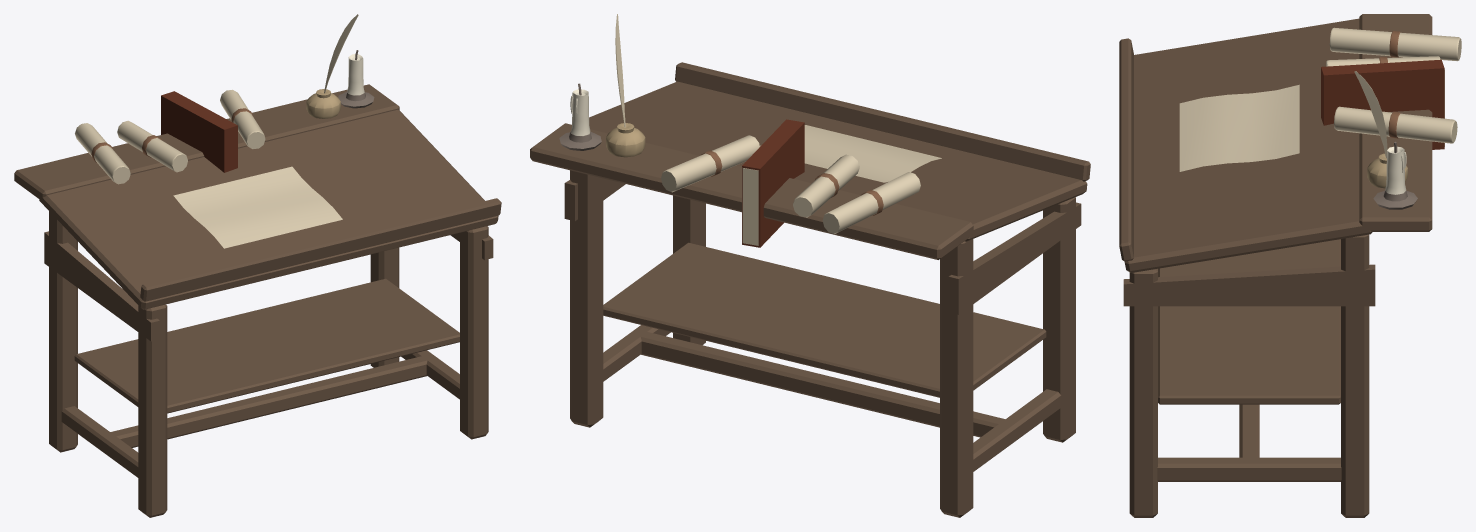
File: desk_scribe.glb
3 views of the same model, side by side, from view 1: azimuth 30°, elevation 25°; view 2: azimuth 150°, elevation 25°; view 3: azimuth 270°, elevation 25° (orthographic). The views are drawn at different scales.
Parts seen in each view (by area): view 1: desk_scribe; view 2: desk_scribe; view 3: desk_scribe.
Part boxes in pixels (x1,y1,x2,y2): desk_scribe: (14,14,501,517); desk_scribe: (530,14,1090,517); desk_scribe: (1119,14,1461,517).
Size of the model in its own units: 1.2 by 1.16 by 0.8429.
